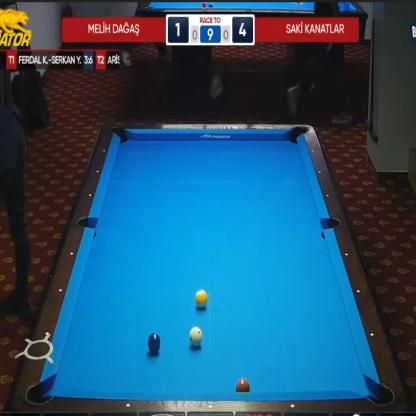Ball: (189, 326, 203, 347), (147, 332, 161, 353), (195, 289, 207, 308), (235, 378, 250, 392)
